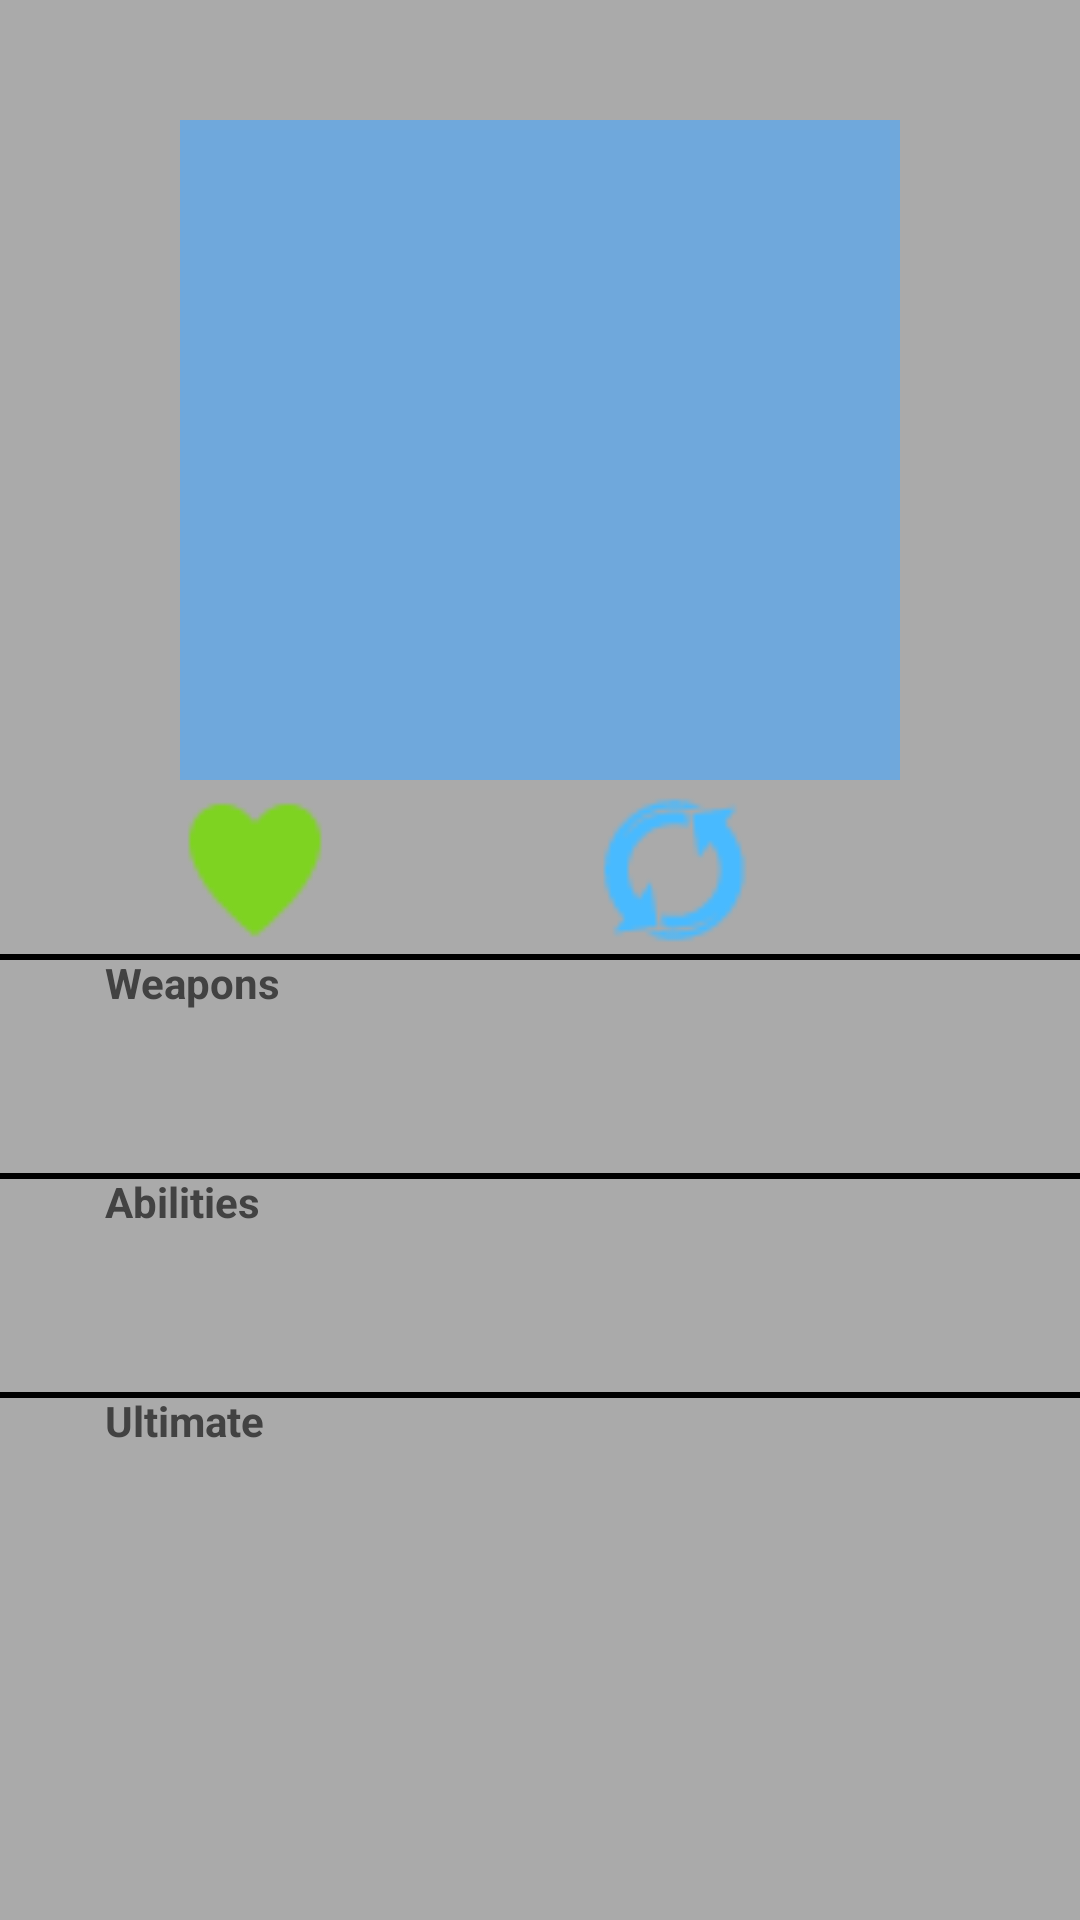

Icons on this 1080px x 1920px Android screen, each with the point to tap as [x,y]:
cycle: [674,870]
hearts: [255,870]
